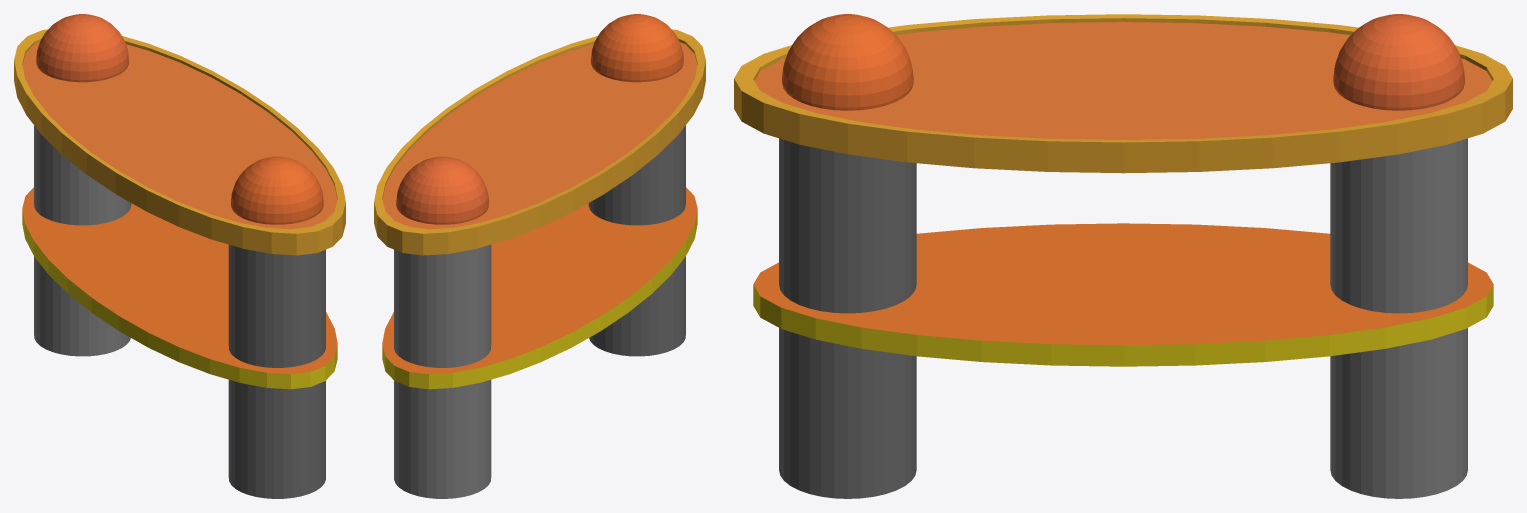
File: PlatformBlocker.fbx
3 renders of one model, left to right at view 1: azimuth 30°, elevation 25°; view 2: azimuth 150°, elevation 25°; view 3: azimuth 270°, elevation 25°, orthographic. The views are drawn at different scales.
Visible parts, largest first — view 1: Cylinder.003, Cylinder.002, Cylinder, Cylinder.001, Sphere, Sphere.001; view 2: Cylinder.003, Cylinder.002, Cylinder.001, Cylinder, Sphere.001, Sphere; view 3: Cylinder.003, Cylinder.002, Cylinder, Cylinder.001, Sphere, Sphere.001.
Boxes of the visible parts, x1,y1,x2,y2 form: Cylinder.003: (14, 29, 345, 255); Cylinder.002: (22, 187, 337, 389); Cylinder: (228, 244, 325, 498); Cylinder.001: (34, 125, 131, 356); Sphere: (231, 156, 323, 224); Sphere.001: (36, 14, 128, 82); Cylinder.003: (374, 29, 705, 255); Cylinder.002: (382, 187, 697, 389); Cylinder.001: (394, 244, 491, 498); Cylinder: (588, 125, 685, 356); Sphere.001: (396, 156, 488, 224); Sphere: (591, 14, 683, 82); Cylinder.003: (734, 14, 1512, 173); Cylinder.002: (753, 223, 1493, 366); Cylinder: (779, 138, 916, 498); Cylinder.001: (1330, 138, 1467, 498); Sphere: (782, 14, 913, 110); Sphere.001: (1333, 14, 1464, 110).
Size of the model in its own units: 441 by 720 by 1130.
